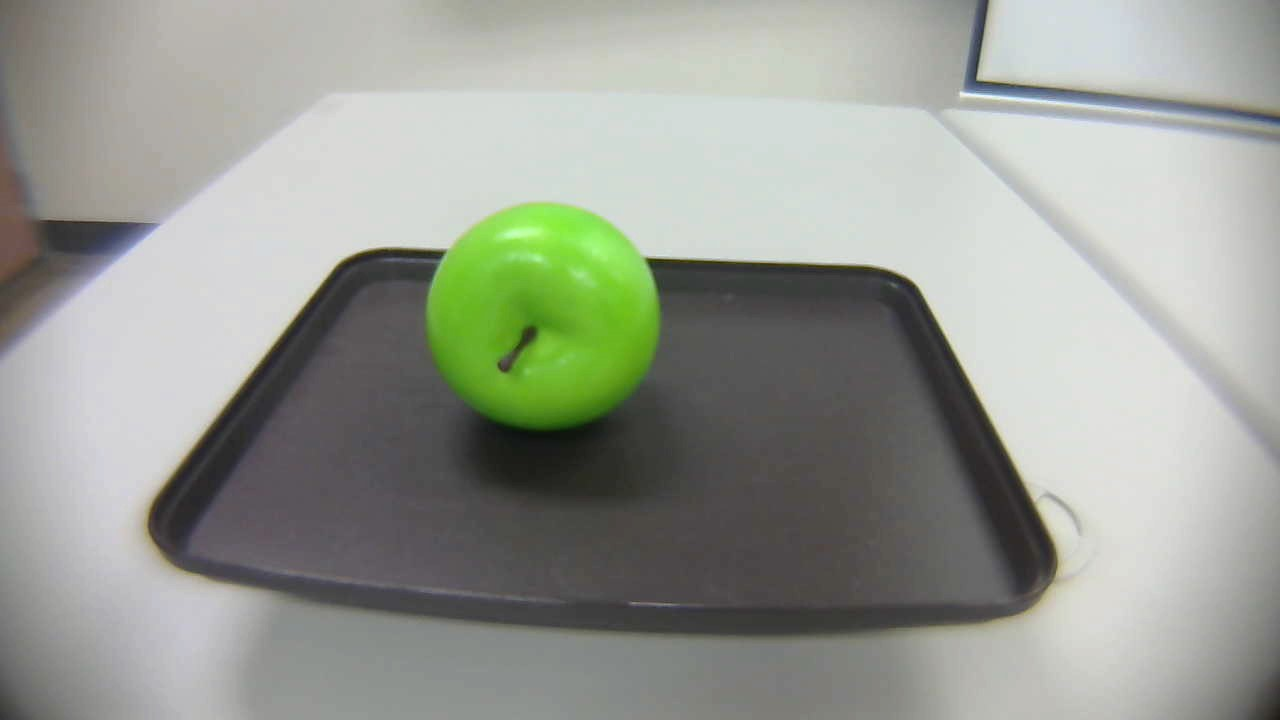green apple: (420, 205, 667, 435)
